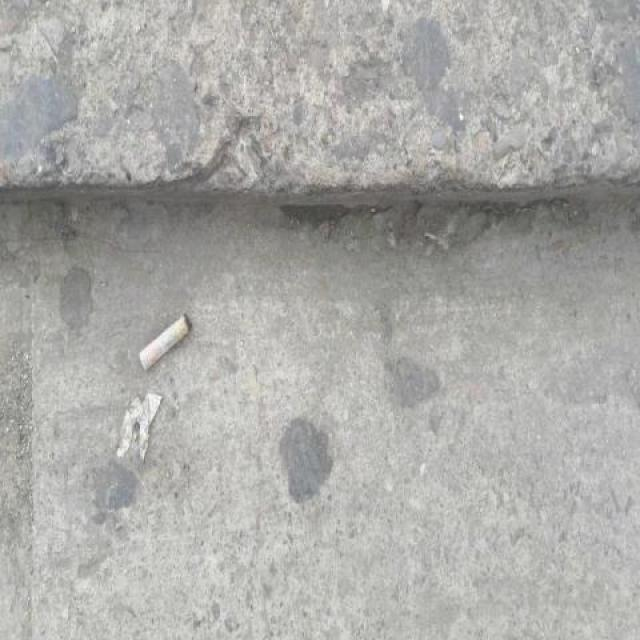non-organic waste: (135, 310, 193, 374)
